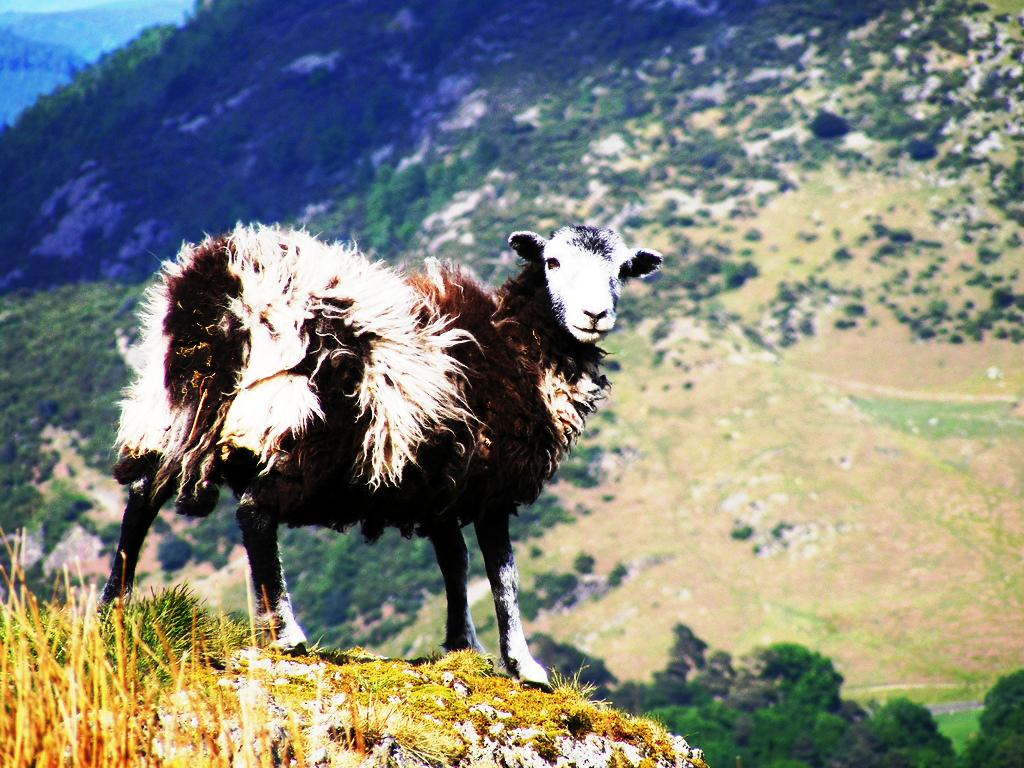Sheep: (90, 221, 664, 693)
